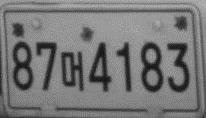1: (115, 40, 132, 92)
3: (166, 41, 190, 92)
4: (87, 41, 112, 92)
7: (35, 41, 57, 91)
8: (139, 41, 164, 92), (11, 41, 33, 90)
머: (60, 50, 84, 91)
